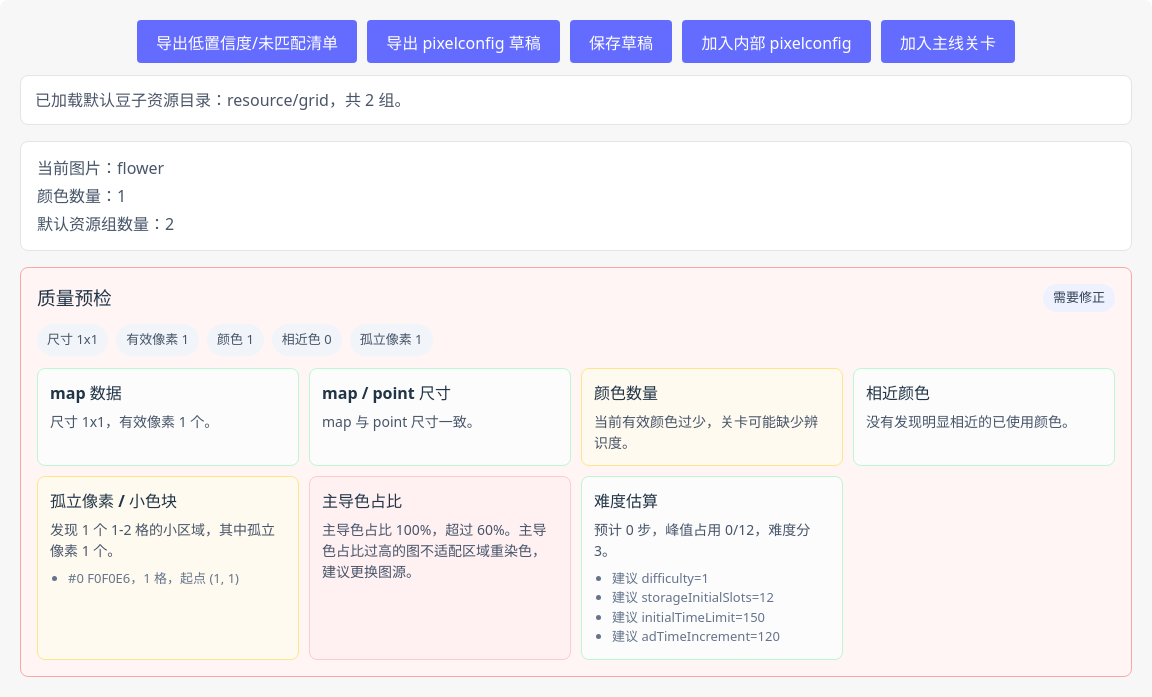
Test: LevelProductionPreviewPanel › publishes the current draft into internal pixelconfig
Step 1. Click the button "加入内部 pixelconfig" → {"x": 776, "y": 42}, box x1=682 y1=20 x2=871 y2=63
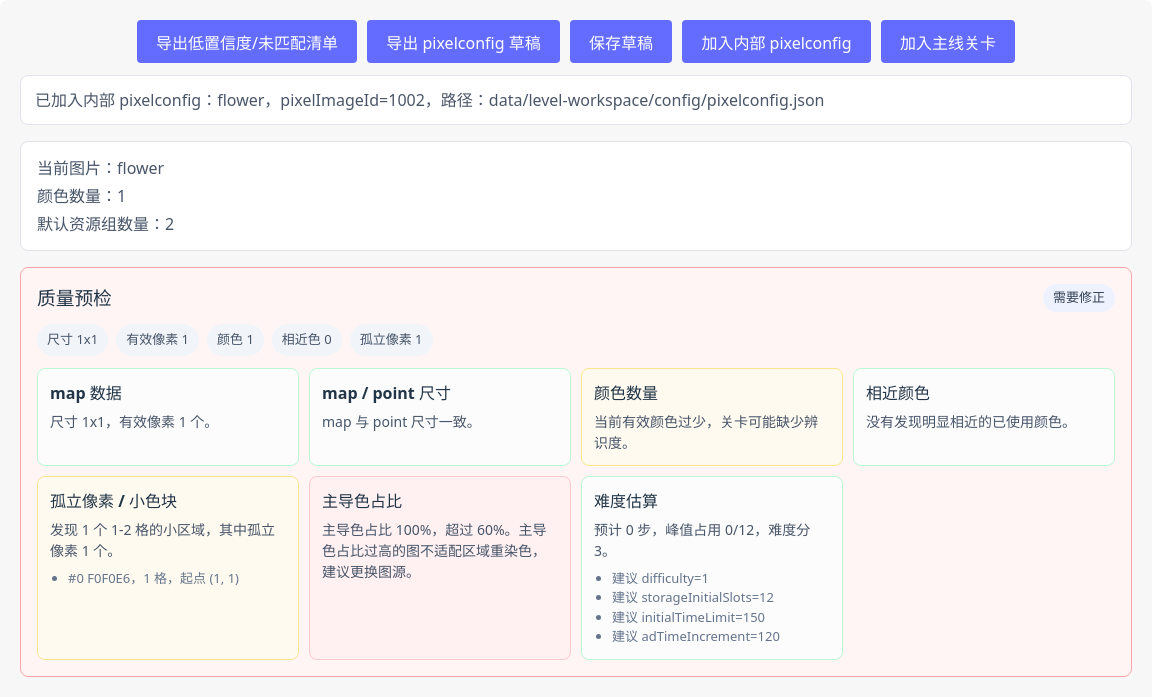
Expected: the text "data/level-workspace/config/pixelconfig.json" is shown, x1=35 y1=89 x2=824 y2=111
